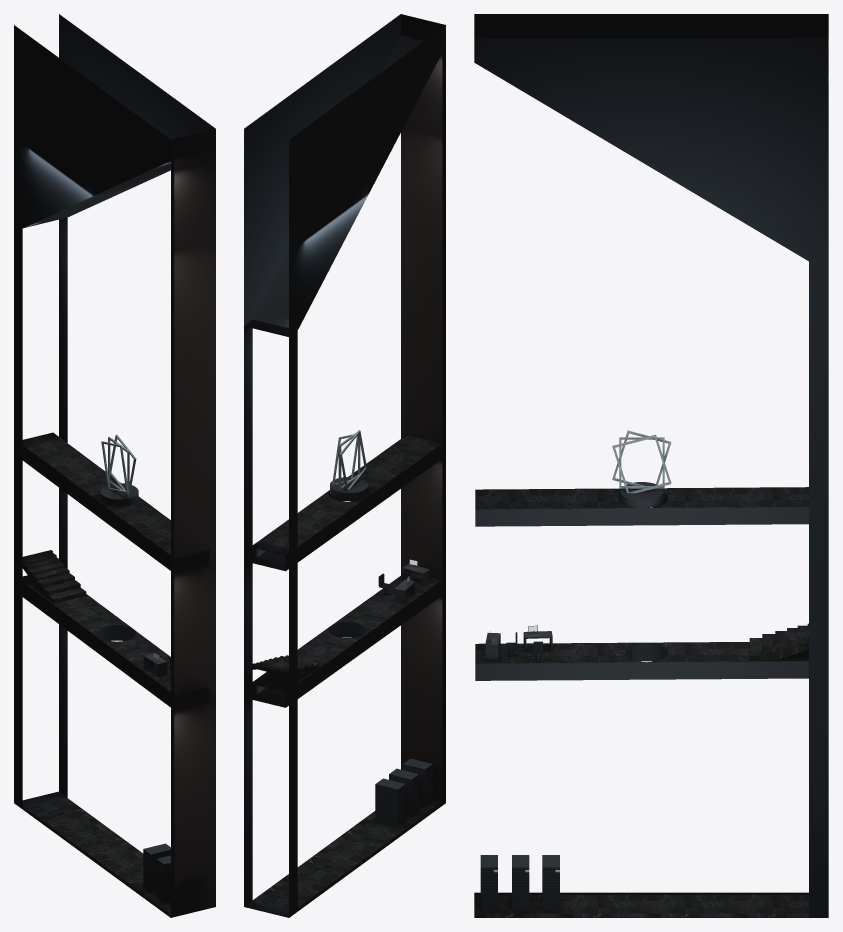
Rendered from cgi-front-v05.glb.
3 renders of one model, left to right at view 1: azimuth 30°, elevation 25°; view 2: azimuth 150°, elevation 25°; view 3: azimuth 270°, elevation 25°, orthographic. The views are drawn at different scales.
Visible parts, largest first — view 1: CGI_THREE_LEVEL_BAKED_FRONT; view 2: CGI_THREE_LEVEL_BAKED_FRONT; view 3: CGI_THREE_LEVEL_BAKED_FRONT.
Part boxes in pixels (bbox=[...]): CGI_THREE_LEVEL_BAKED_FRONT: bbox=[14, 14, 215, 917]; CGI_THREE_LEVEL_BAKED_FRONT: bbox=[244, 14, 445, 917]; CGI_THREE_LEVEL_BAKED_FRONT: bbox=[474, 14, 828, 917].
Bounding box in the file's own units: 0.4193 × 6.93 × 2.53.
Materials: 1 (1 with a texture image).
